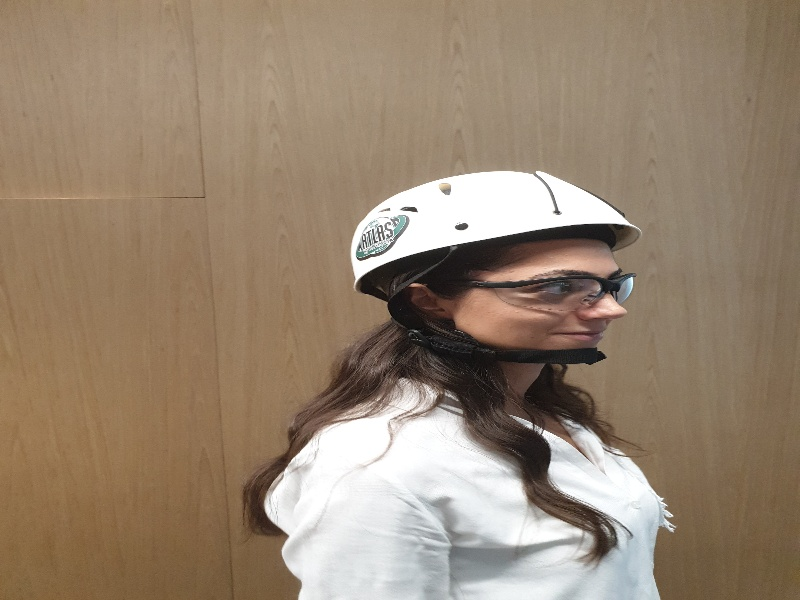Baret: (351, 170, 645, 254)
Gozluk: (433, 273, 639, 307)
